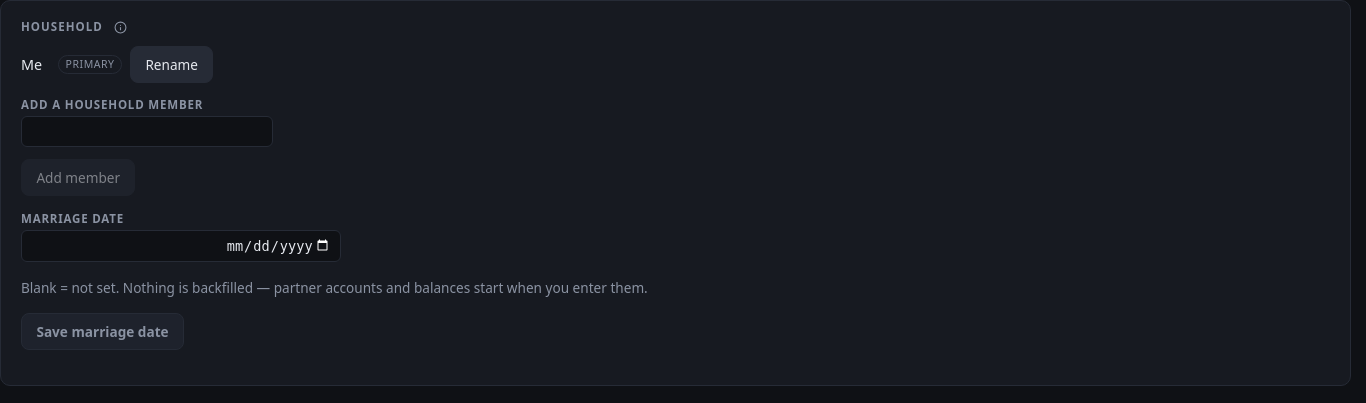
Test: renders a rejected add verbatim and keeps the typed name
Expected: the text "Me" is shown, [21,55,42,74]
Type "Partner" into the field labelled "Add a household member" at (147, 132), box [21,116,273,147]
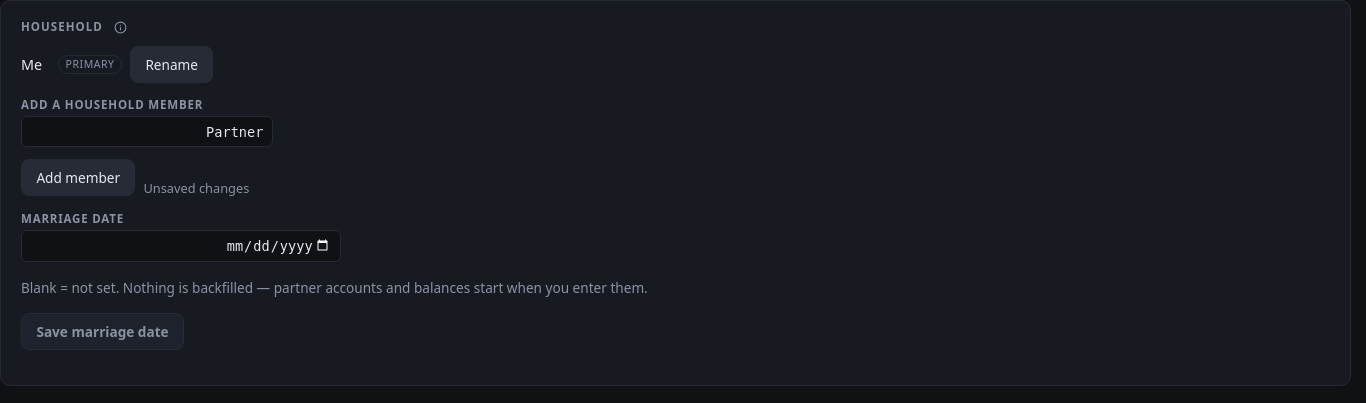
Click the button "Add member" at (78, 178), box [21,159,136,196]
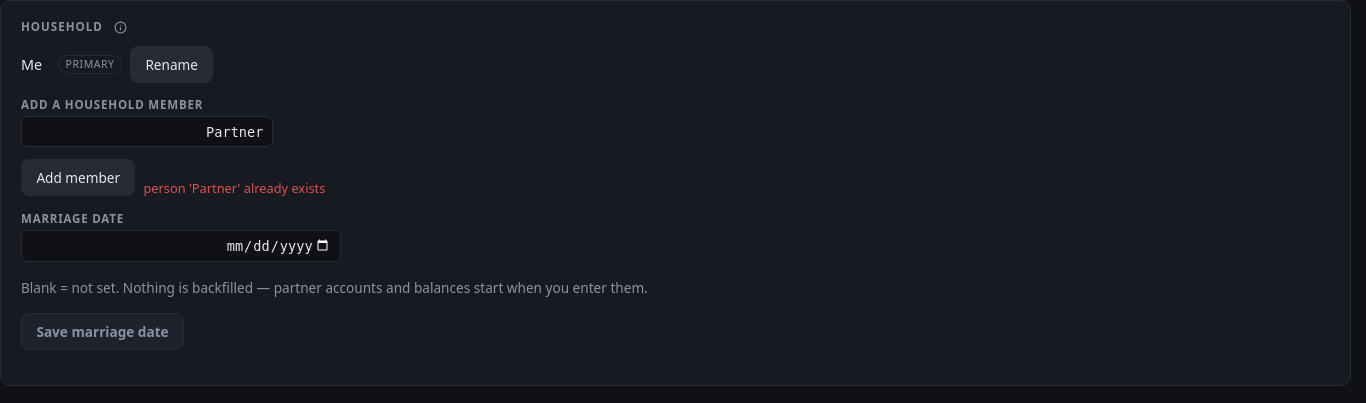
Expected: the text "person 'Partner' already exists" is shown, [144,180,325,196]
